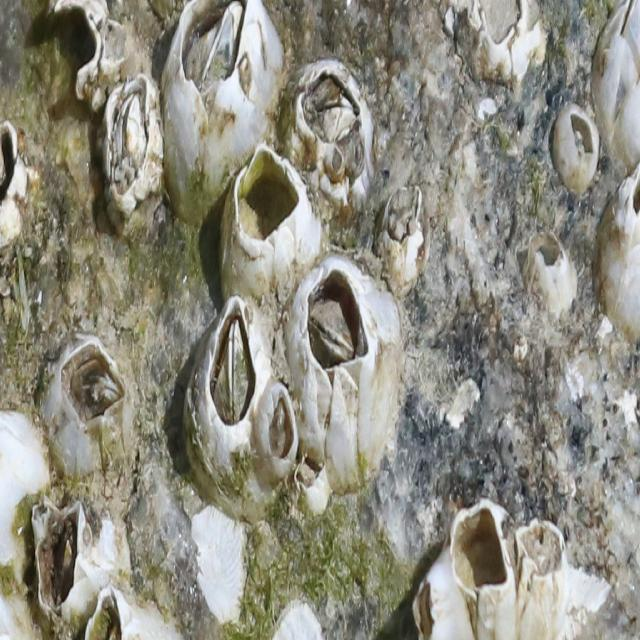barnacles: (292, 262, 409, 518), (160, 0, 269, 182), (178, 295, 266, 515), (44, 331, 143, 487), (213, 156, 312, 298), (292, 58, 376, 219), (95, 72, 165, 243), (435, 0, 550, 103), (31, 489, 96, 630), (453, 489, 512, 631), (519, 491, 572, 640), (527, 219, 584, 327), (376, 181, 430, 294), (557, 87, 607, 195), (255, 376, 301, 490), (409, 542, 453, 640)
